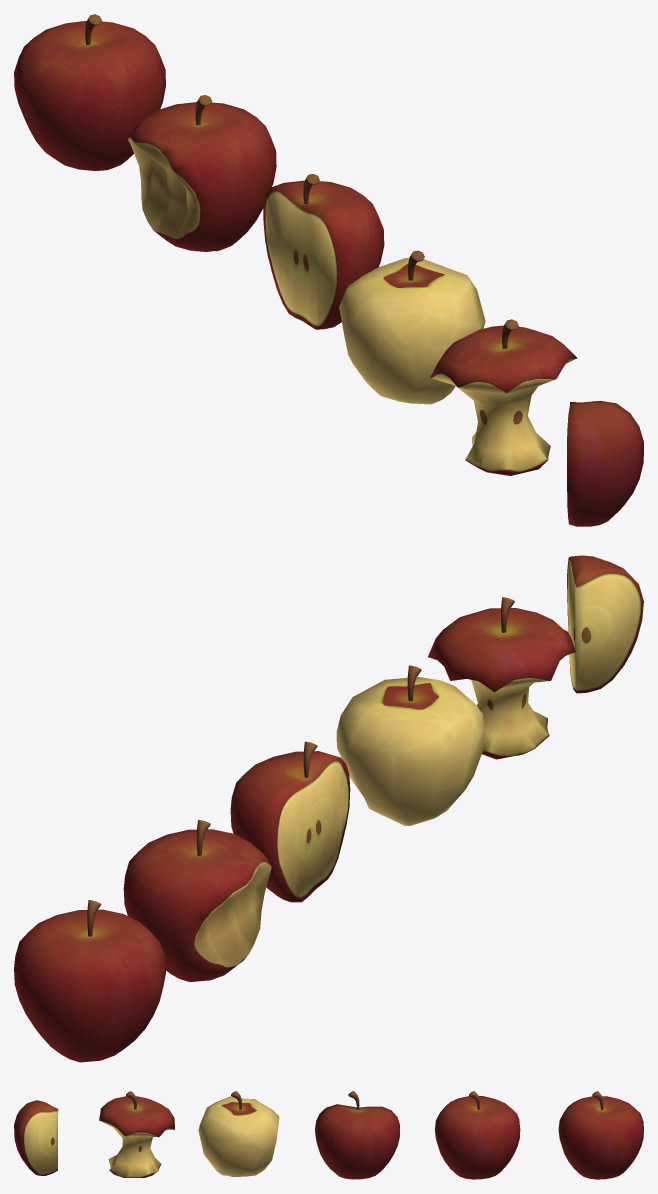
The model's file is apples.glb.
3 renders of one model, top to bottom at view 1: azimuth 30°, elevation 25°; view 2: azimuth 150°, elevation 25°; view 3: azimuth 270°, elevation 25°, orthographic. The views are drawn at different scales.
Parts seen in each view (by area): view 1: APPLE_red_whole, APPLE_red_Bitten, APPLE_red_Cut, APPLE_red_Half, APPLE_red_Rotten, APPLE_red_Piece; view 2: APPLE_red_whole, APPLE_red_Cut, APPLE_red_Bitten, APPLE_red_Half, APPLE_red_Rotten, APPLE_red_Piece; view 3: APPLE_red_whole, APPLE_red_Bitten, APPLE_red_Half, APPLE_red_Cut, APPLE_red_Rotten, APPLE_red_Piece.
Part boxes in pixels (left/top/right/bottom): APPLE_red_whole: left=14, top=14, right=165, bottom=170; APPLE_red_Bitten: left=128, top=95, right=276, bottom=251; APPLE_red_Cut: left=339, top=250, right=485, bottom=404; APPLE_red_Half: left=263, top=174, right=384, bottom=329; APPLE_red_Rotten: left=430, top=319, right=577, bottom=475; APPLE_red_Piece: left=567, top=401, right=643, bottom=526; APPLE_red_whole: left=14, top=900, right=165, bottom=1062; APPLE_red_Cut: left=336, top=665, right=484, bottom=825; APPLE_red_Bitten: left=123, top=820, right=271, bottom=981; APPLE_red_Half: left=230, top=741, right=350, bottom=902; APPLE_red_Rotten: left=428, top=597, right=575, bottom=759; APPLE_red_Piece: left=567, top=555, right=643, bottom=693; APPLE_red_whole: left=558, top=1091, right=643, bottom=1179; APPLE_red_Bitten: left=434, top=1091, right=520, bottom=1179; APPLE_red_Half: left=314, top=1091, right=399, bottom=1179; APPLE_red_Cut: left=198, top=1091, right=279, bottom=1176; APPLE_red_Rotten: left=99, top=1091, right=175, bottom=1177; APPLE_red_Piece: left=14, top=1100, right=58, bottom=1175.
Size of the model in its own units: 0.0818 by 0.0885 by 0.6048.
Materials: 6 (6 with a texture image).
